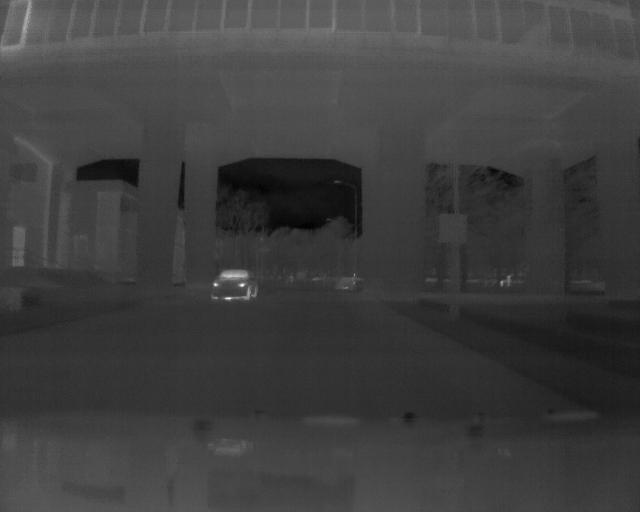car: (208, 263, 261, 307)
